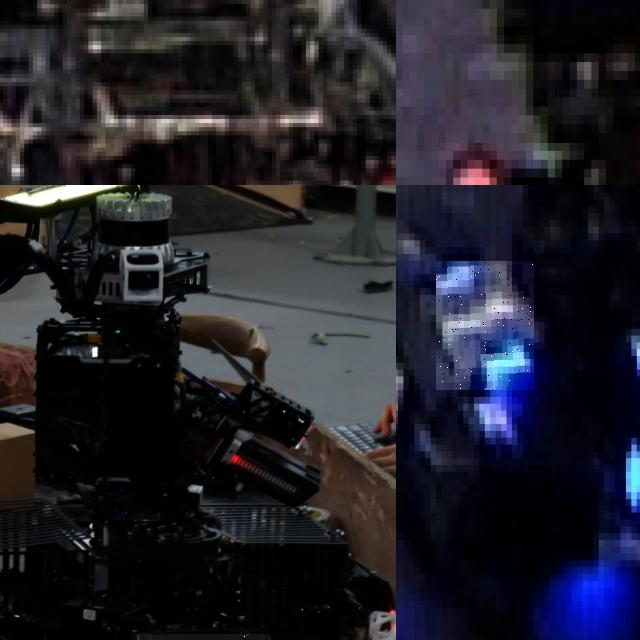B1: (436, 261, 534, 390)
